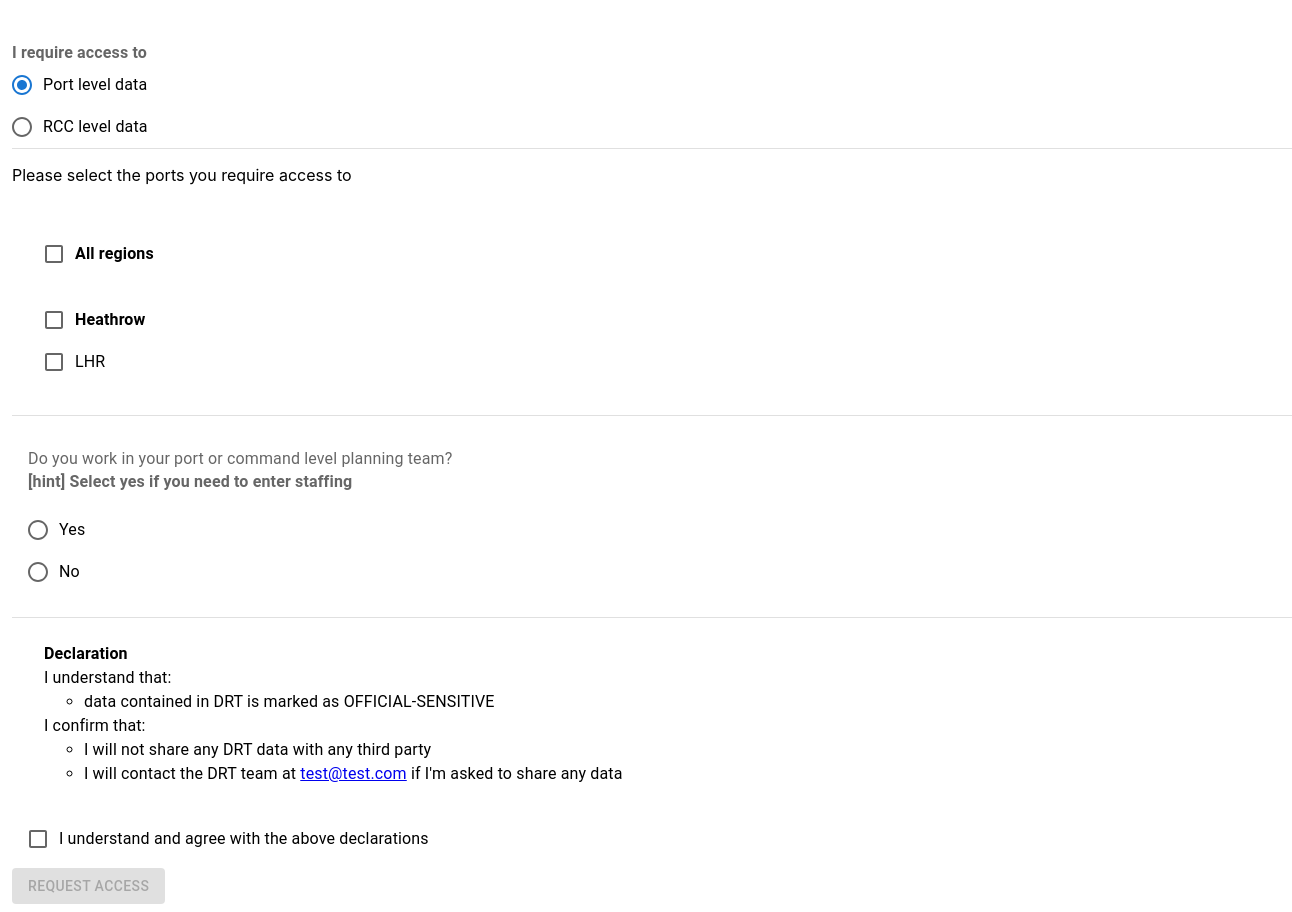
Test: <AccessRequestForm /> › displays the line manager textbox input when "yes" is selected for the staffing figures radio group
The width and height of the screenshot is (1292, 912).
(page scrolled)
Expected: the field labelled "Enter your line manager's email address" is not shown
Click the text "Yes". click: (72, 530)
box: [59,518,85,542]
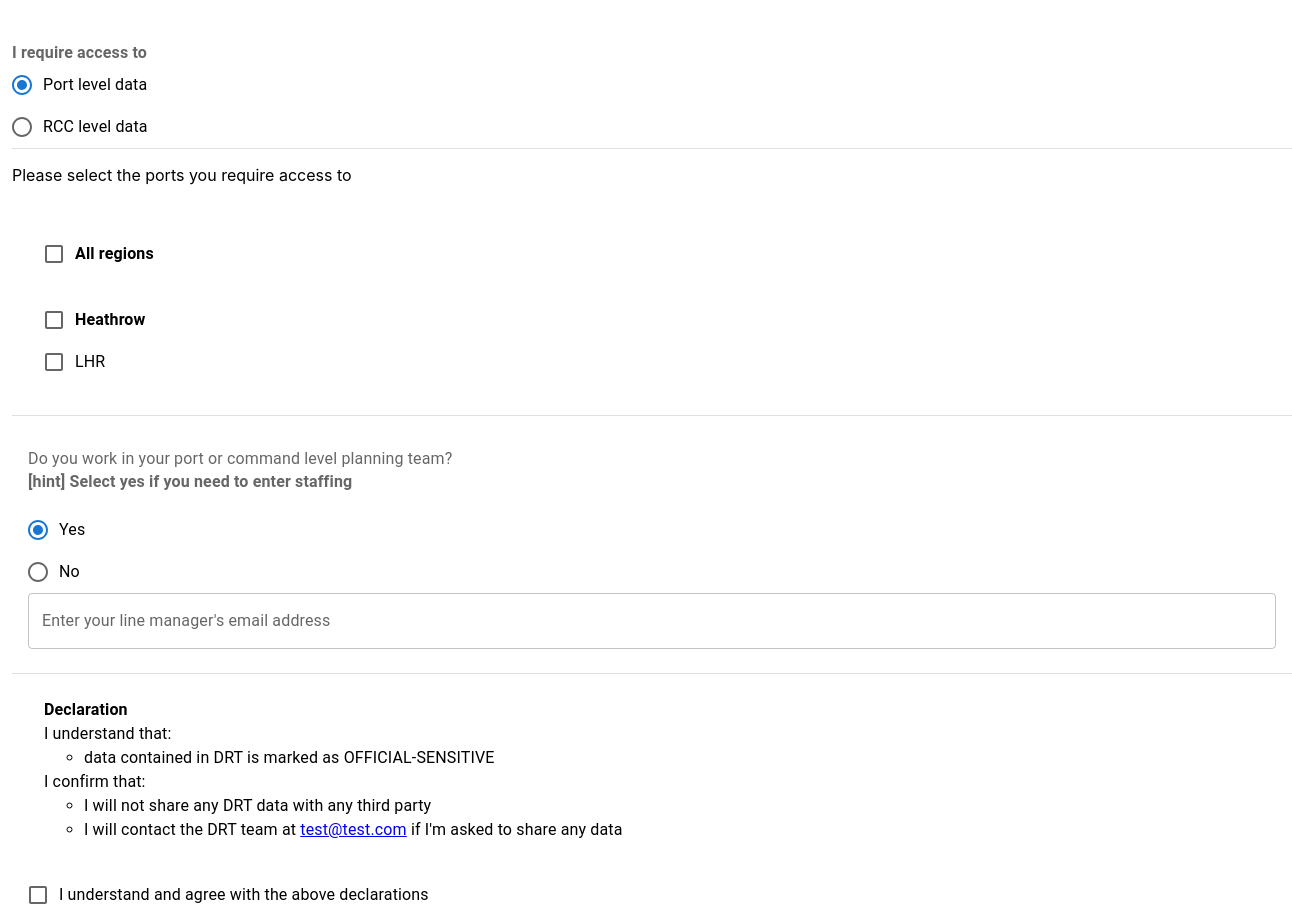
Now the field labelled "Enter your line manager's email address" is shown, box [28,593,1276,649]
Click the text "No". click: (69, 572)
box: [59,560,80,584]
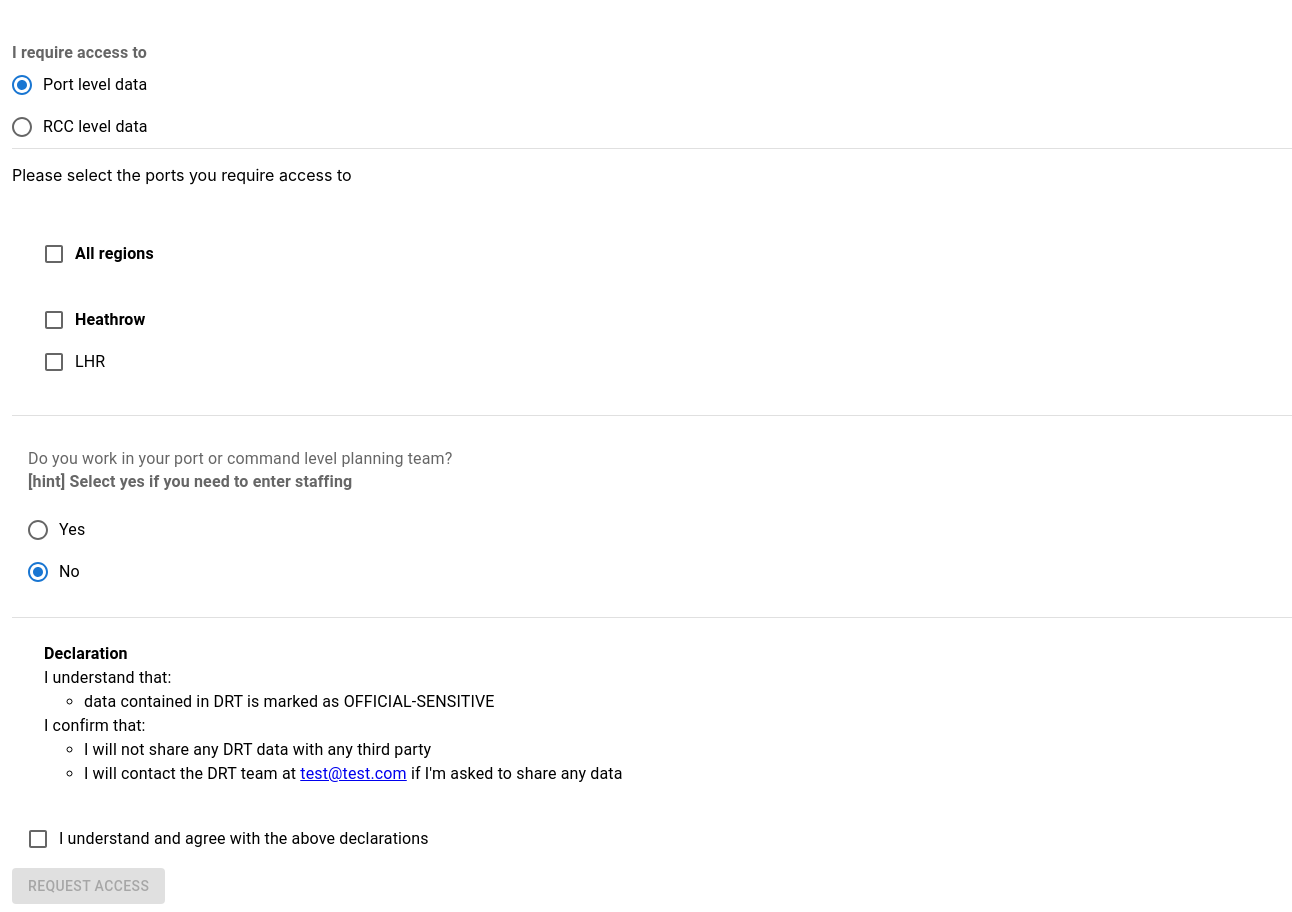
Now the label labelled "Enter your line manager's email address" is gone
